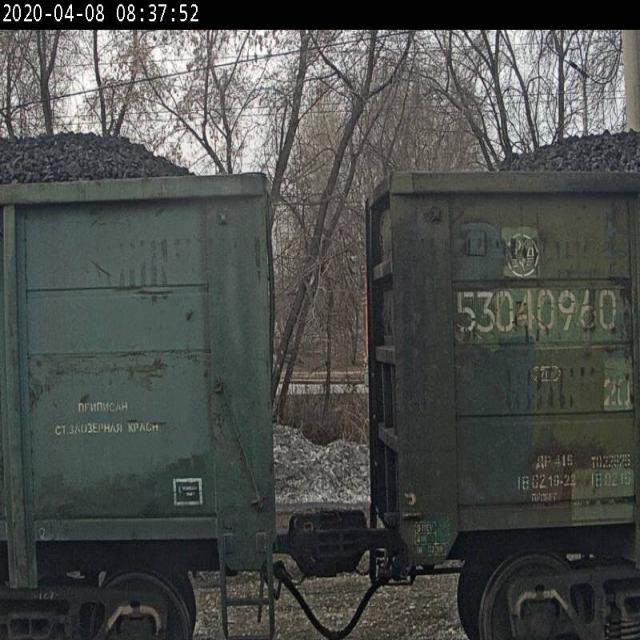gondola: (353, 99, 640, 640), (0, 117, 290, 640)
